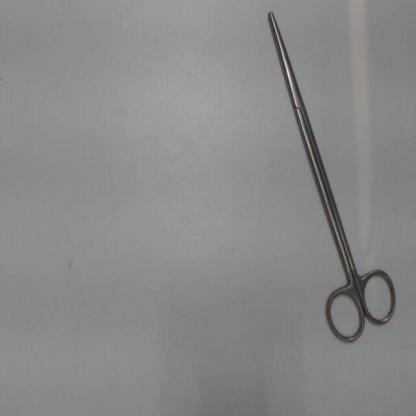9 Metzenbaum Scissors: (266, 6, 402, 349)
